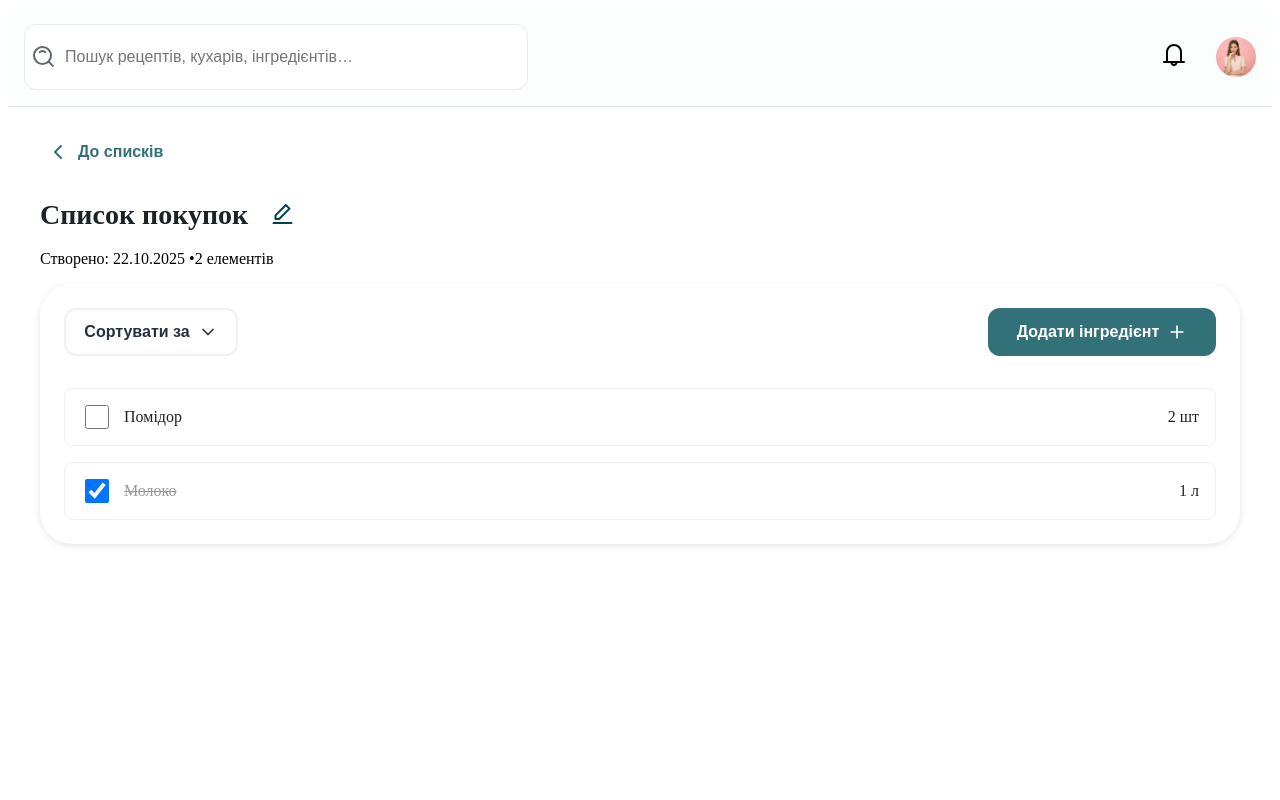
it: ShoppingListDetailPage › можно открыть и закрыть меню редактирования
Click the button named "edit" next to "Список покупок" at (282, 215), box [264,200,300,230]
(page scrolled)
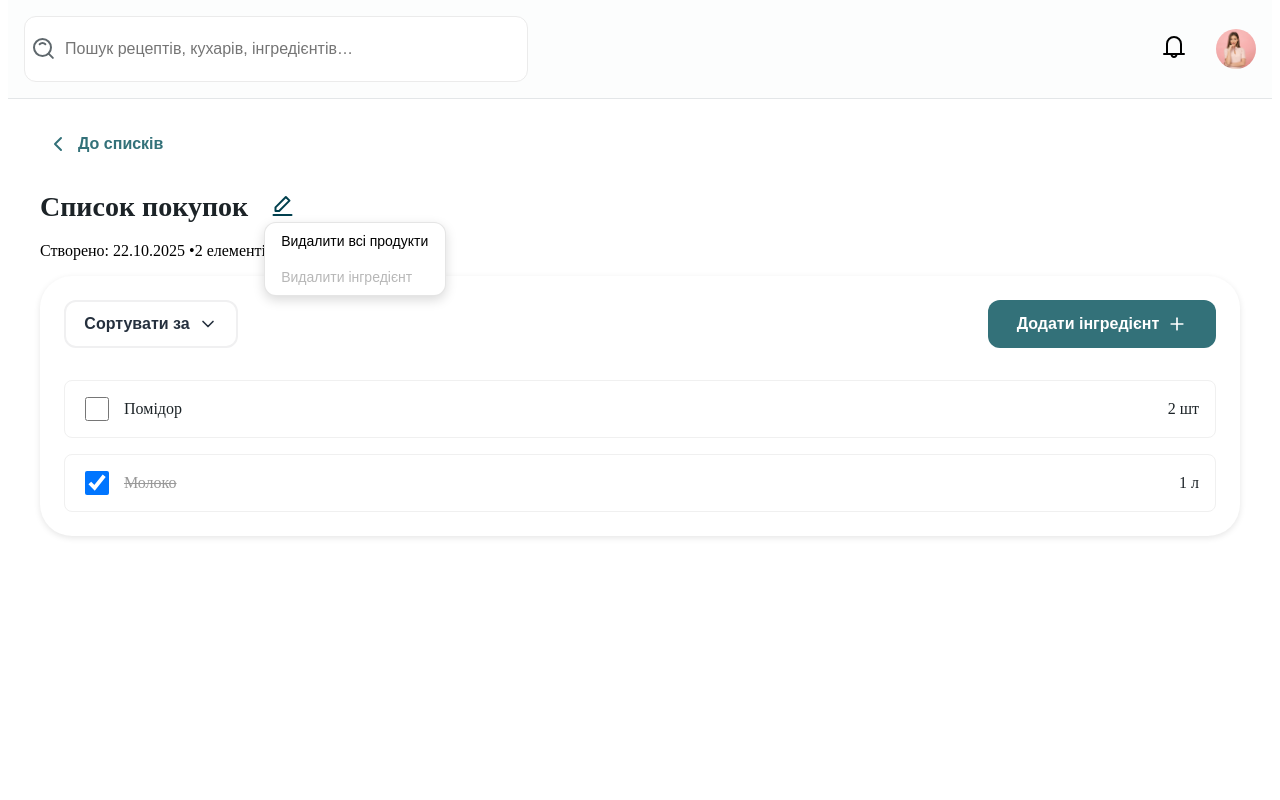
Expected: the button "Видалити всі продукти" is shown, [265,222,445,258]
Note: закрываем меню кликом вне
Press the mouse on the element that starts with "До списків" at (640, 400), box [8,0,1272,799]
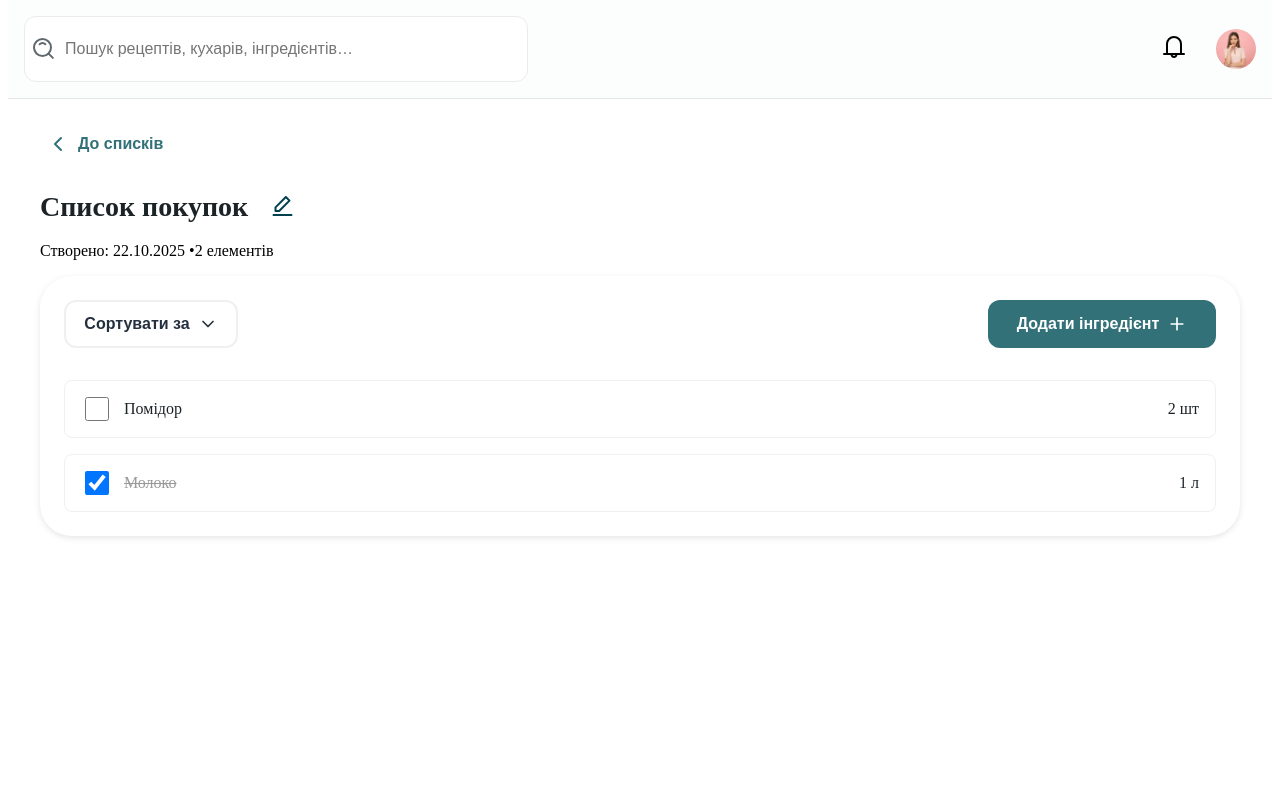
Expected: the button "Видалити всі продукти" is gone
